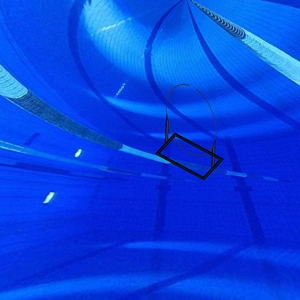circle: (153, 80, 228, 182)
